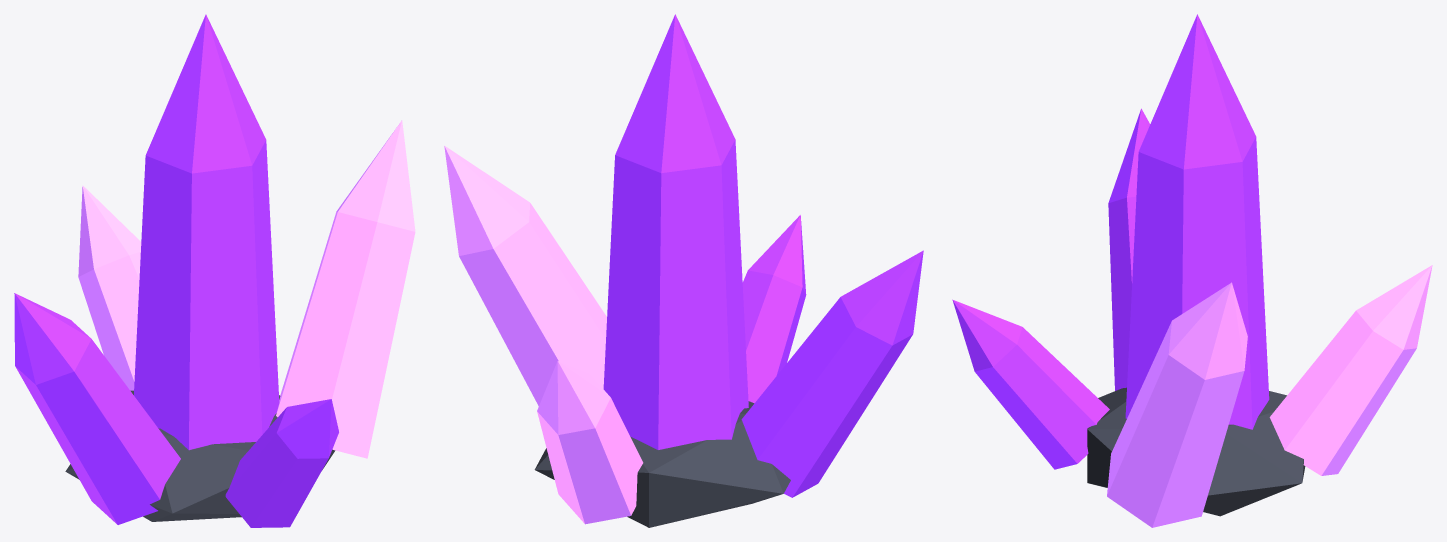
The model's file is loot_crystal.glb.
3 renders of one model, left to right at view 1: azimuth 30°, elevation 25°; view 2: azimuth 150°, elevation 25°; view 3: azimuth 270°, elevation 25°, orthographic. The views are drawn at different scales.
Parts seen in each view (by area): view 1: Body, Body_02, Body_03, Tip, Body_05, Base, Body_04, Tip_03, Tip_02, Tip_04, Tip_05; view 2: Body, Body_03, Body_02, Base, Tip, Body_04, Body_05, Tip_02, Tip_03, Tip_04, Tip_05; view 3: Body, Body_02, Body_04, Tip, Body_05, Base, Tip_02, Body_03, Tip_04, Tip_05, Tip_03.
Boxes of the visible parts, x1,y1,x2,y2 form: Body: (134, 140, 279, 450); Body_02: (276, 211, 415, 458); Body_03: (15, 339, 180, 524); Tip: (145, 14, 266, 173); Body_05: (225, 408, 328, 527); Base: (65, 390, 335, 521); Body_04: (78, 251, 140, 390); Tip_03: (14, 293, 91, 384); Tip_02: (336, 120, 415, 231); Tip_04: (78, 185, 141, 276); Tip_05: (277, 399, 338, 458); Body: (603, 139, 748, 449); Body_03: (741, 297, 912, 497); Body_02: (459, 203, 606, 406); Base: (534, 401, 790, 527); Tip: (615, 14, 735, 173); Body_04: (537, 398, 643, 524); Body_05: (742, 270, 805, 403); Tip_02: (444, 145, 530, 255); Tip_03: (841, 250, 923, 345); Tip_04: (537, 361, 610, 434); Tip_05: (748, 215, 806, 294); Body: (1125, 137, 1269, 429); Body_02: (1107, 321, 1244, 527); Body_04: (1269, 311, 1416, 475); Tip: (1138, 14, 1255, 169); Body_05: (975, 327, 1109, 469); Base: (1087, 387, 1305, 516); Tip_02: (1168, 282, 1247, 379); Body_03: (1108, 196, 1136, 390); Tip_04: (1356, 265, 1432, 349); Tip_05: (952, 299, 1022, 371); Tip_03: (1108, 108, 1150, 203).
Size of the model in its own units: 0.4762 by 0.5068 by 0.4681.
